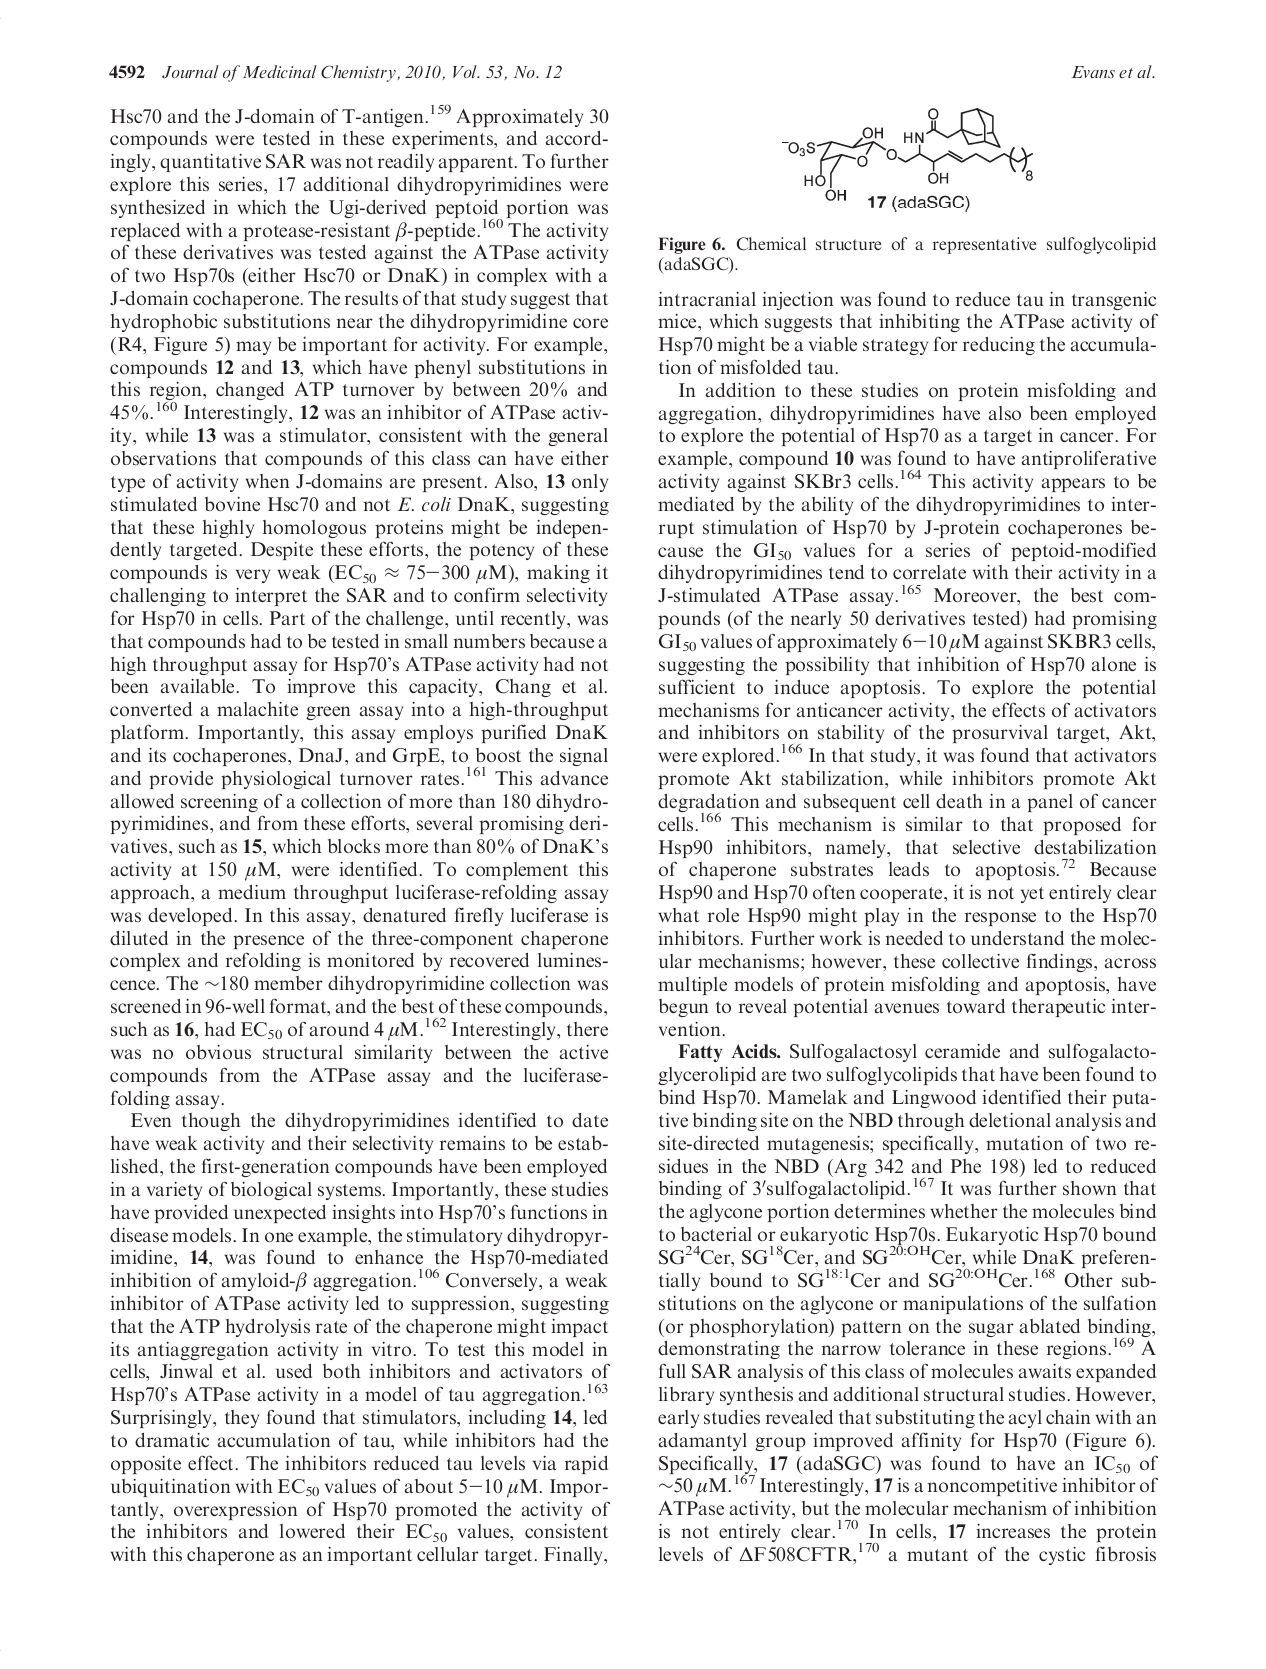exist_molecular: (779, 105, 1037, 209)
